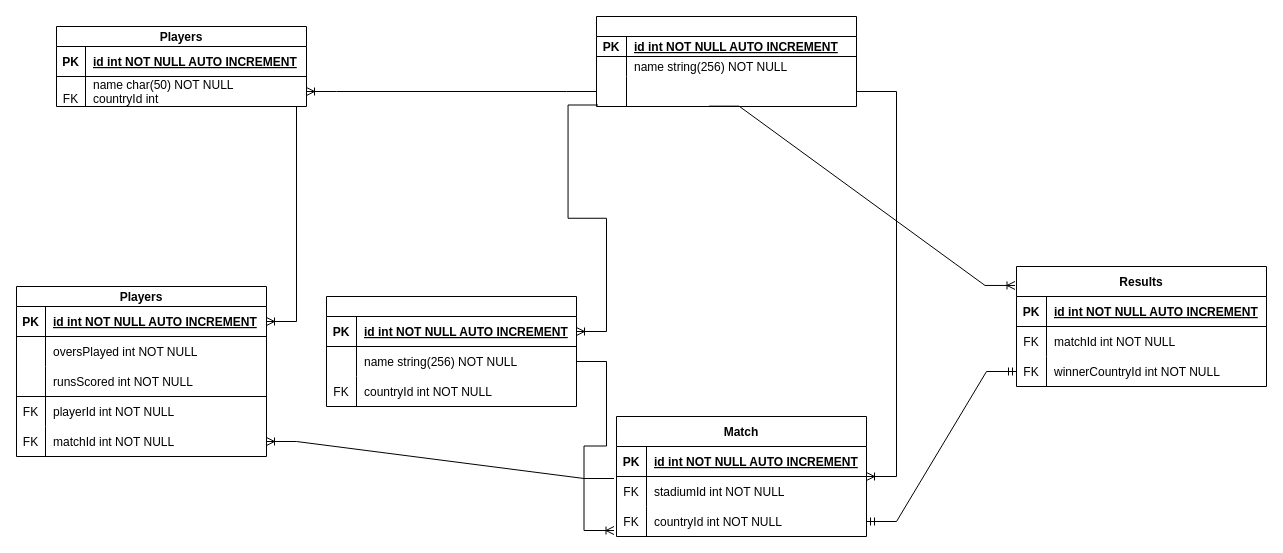
This 1283x553 diagram has some shape labels left out. The shapes that lost their labels are listed below. From the top down, each one's box as (x1, y1, x2, y2) in pixels, then its label:
(596, 16, 856, 106): Countries
(326, 296, 576, 406): Stadiums
